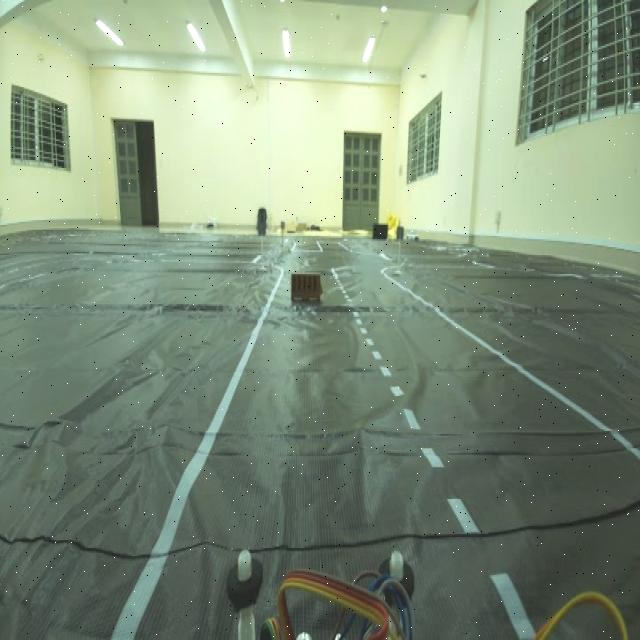roadblock: (286, 263, 326, 312)
